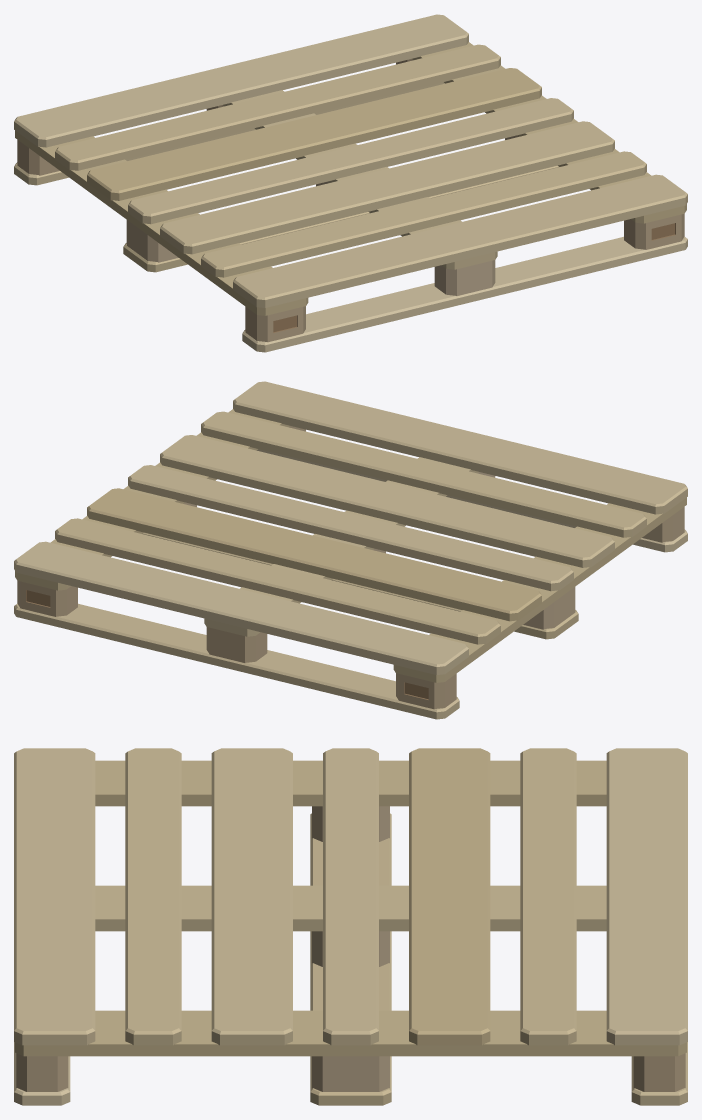
The model's file is pallet.glb.
The picture shows the model from 3 angles, top to bottom: view 1: azimuth 30°, elevation 25°; view 2: azimuth 150°, elevation 25°; view 3: azimuth 270°, elevation 25°; orthographic projection. The views are drawn at different scales.
Visible parts, largest first — view 1: pallet.001; view 2: pallet.001; view 3: pallet.001.
Boxes of the visible parts, x1,y1,x2,y2 form: pallet.001: (14, 14, 687, 352); pallet.001: (14, 381, 687, 719); pallet.001: (14, 748, 687, 1105).
Size of the model in its own units: 1.2 by 0.144 by 1.2.
